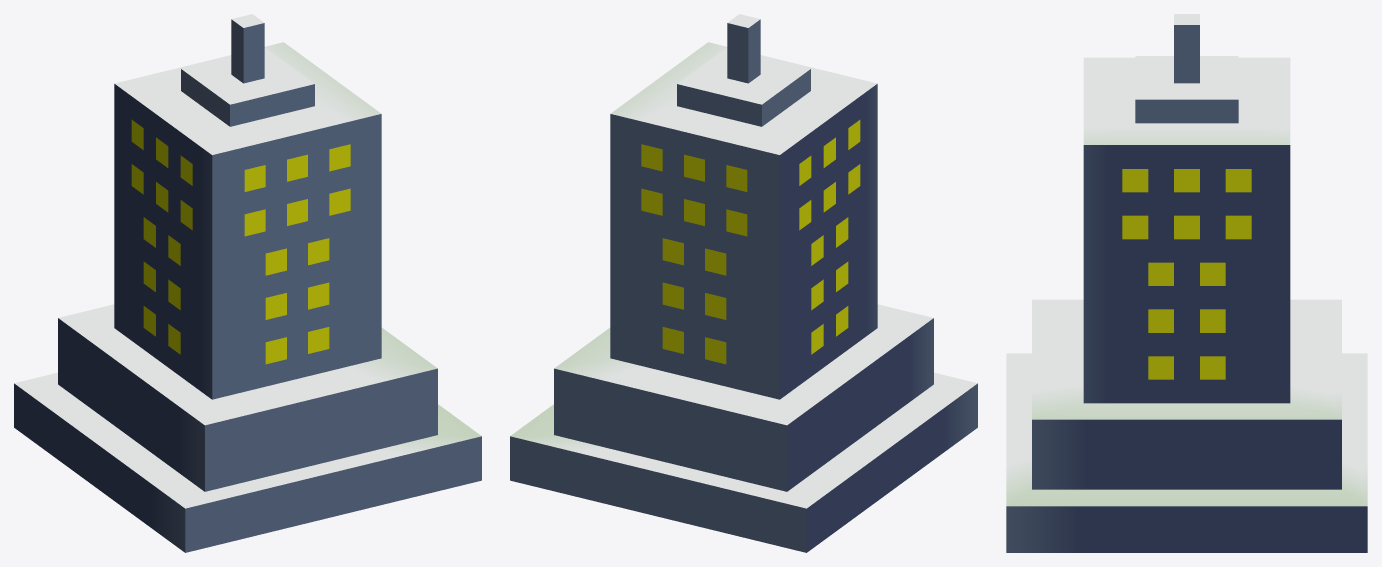
File: HQ.OrangeStar.SilverClaw.Snow.glb
3 views of the same model, side by side, from view 1: azimuth 30°, elevation 25°; view 2: azimuth 150°, elevation 25°; view 3: azimuth 270°, elevation 25° (orthographic). The views are drawn at different scales.
Parts seen in each view (by area): view 1: HQ.OrangeStar.SilverClaw.Snow; view 2: HQ.OrangeStar.SilverClaw.Snow; view 3: HQ.OrangeStar.SilverClaw.Snow.
Boxes of the visible parts, bbox=[...] form: HQ.OrangeStar.SilverClaw.Snow: bbox=[14, 14, 481, 552]; HQ.OrangeStar.SilverClaw.Snow: bbox=[510, 14, 977, 552]; HQ.OrangeStar.SilverClaw.Snow: bbox=[1006, 14, 1367, 552].
Bounding box in the file's own units: 2.8 × 3.91 × 2.8.
Materials: 2 (1 with a texture image).
